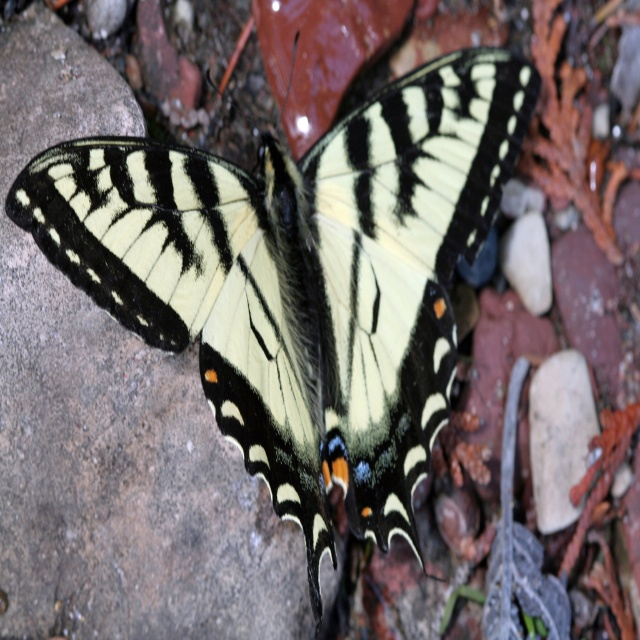Butterfly: (11, 0, 552, 609)
